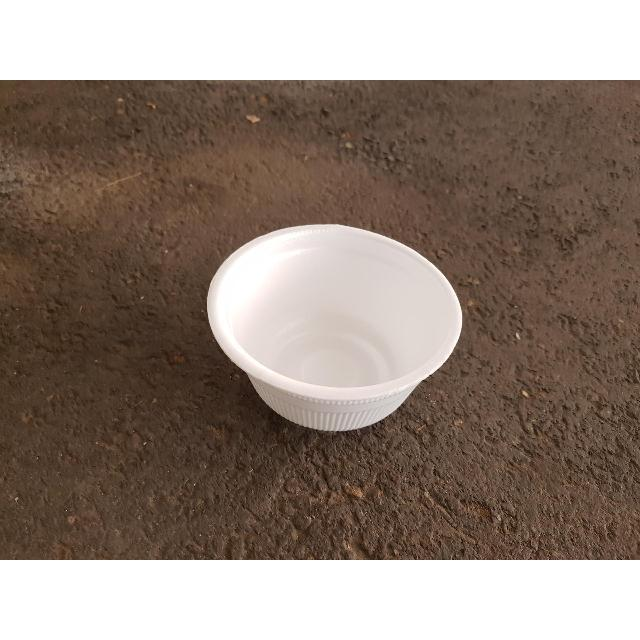Plastico descartable: (208, 224, 464, 433)
